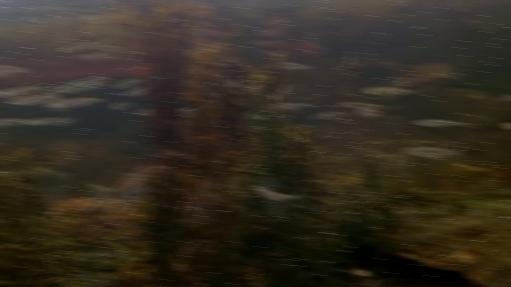Fish: (89, 166, 150, 208), (253, 185, 298, 201), (287, 39, 324, 56), (46, 97, 103, 108), (405, 147, 460, 157), (0, 85, 45, 97), (59, 82, 105, 93), (364, 87, 419, 96), (11, 95, 59, 105), (414, 119, 469, 127), (251, 39, 290, 49), (61, 43, 104, 52), (255, 27, 288, 38), (199, 27, 226, 40), (24, 117, 67, 125), (357, 106, 384, 118), (340, 102, 383, 109), (78, 52, 115, 60), (271, 103, 312, 110), (312, 113, 351, 120), (70, 77, 109, 84), (273, 82, 290, 98), (47, 117, 76, 126), (0, 66, 29, 75), (263, 16, 286, 27), (114, 80, 143, 88), (124, 86, 147, 96), (282, 62, 313, 69), (96, 46, 125, 53), (111, 101, 132, 110), (0, 118, 27, 125), (179, 107, 194, 115), (135, 109, 152, 116), (248, 114, 267, 120), (43, 90, 64, 95), (227, 79, 240, 87), (498, 96, 510, 101), (216, 62, 231, 66), (503, 123, 510, 129)
